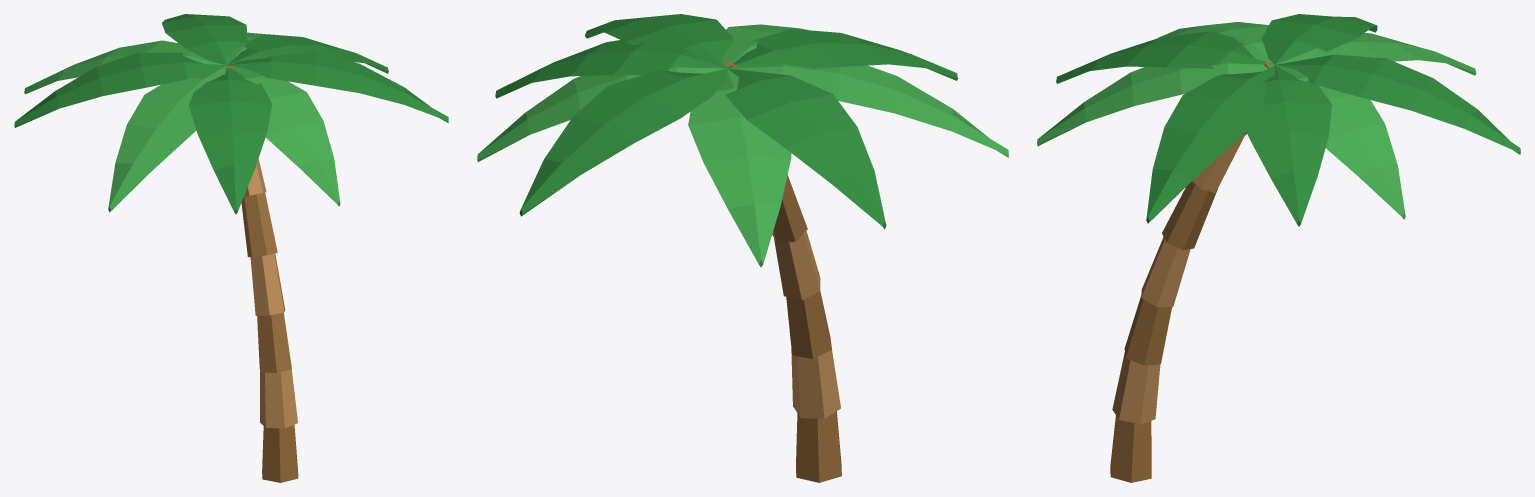
File: Tree_Palm.glb
3 views of the same model, side by side, from view 1: azimuth 30°, elevation 25°; view 2: azimuth 150°, elevation 25°; view 3: azimuth 270°, elevation 25° (orthographic). The views are drawn at different scales.
Visible parts, largest first — view 1: Tree_Palm_Mesh; view 2: Tree_Palm_Mesh; view 3: Tree_Palm_Mesh.
Part boxes in pixels (<box>): Tree_Palm_Mesh: <box>14,14,448,482</box>; Tree_Palm_Mesh: <box>477,14,1008,482</box>; Tree_Palm_Mesh: <box>1037,14,1520,482</box>.
Size of the model in its own units: 6.81 by 6.98 by 7.29.
Materials: 1 (1 with a texture image).
